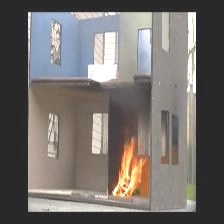fire: (109, 136, 145, 200)
